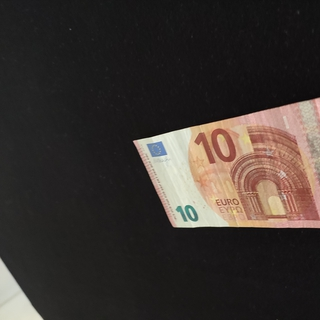10EUROFront: (132, 91, 320, 229)
